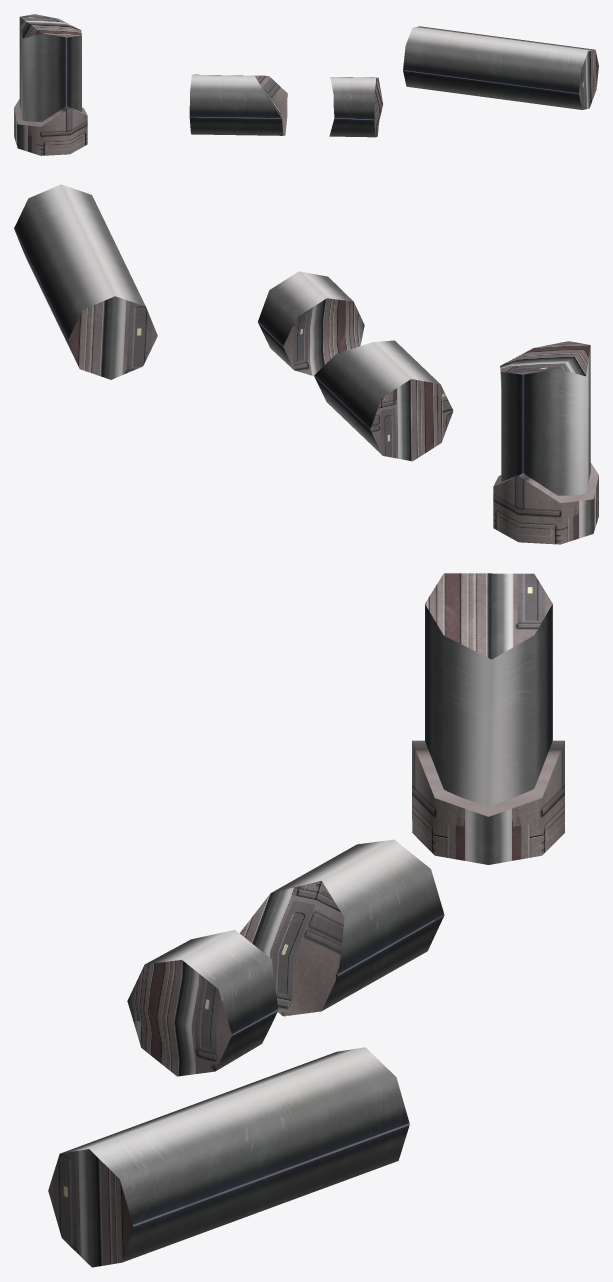
File: cor1_prop_piller_dest.fbx
3 renders of one model, top to bottom at view 1: azimuth 30°, elevation 25°; view 2: azimuth 150°, elevation 25°; view 3: azimuth 270°, elevation 25°, orthographic. The views are drawn at different scales.
Visible parts, largest first — view 1: polymsh_detached54, polymsh_detached55, polymsh_detached, piller_1; view 2: polymsh_detached55, polymsh_detached54, polymsh_detached, piller_1; view 3: polymsh_detached54, polymsh_detached55, polymsh_detached, piller_1.
Part boxes in pixels (x1,y1,x2,y2): polymsh_detached54: (403, 26, 598, 109); polymsh_detached55: (189, 74, 383, 137); polymsh_detached: (19, 14, 81, 121); piller_1: (14, 99, 87, 155); polymsh_detached55: (258, 271, 453, 461); polymsh_detached54: (14, 184, 157, 379); polymsh_detached: (500, 341, 590, 495); piller_1: (493, 462, 598, 544); polymsh_detached54: (48, 1047, 409, 1267); polymsh_detached55: (127, 839, 444, 1076); polymsh_detached: (425, 573, 552, 806); piller_1: (412, 740, 564, 864).
Size of what is drawn, in the model's own units: 22.35 by 5.4 by 10.16.
